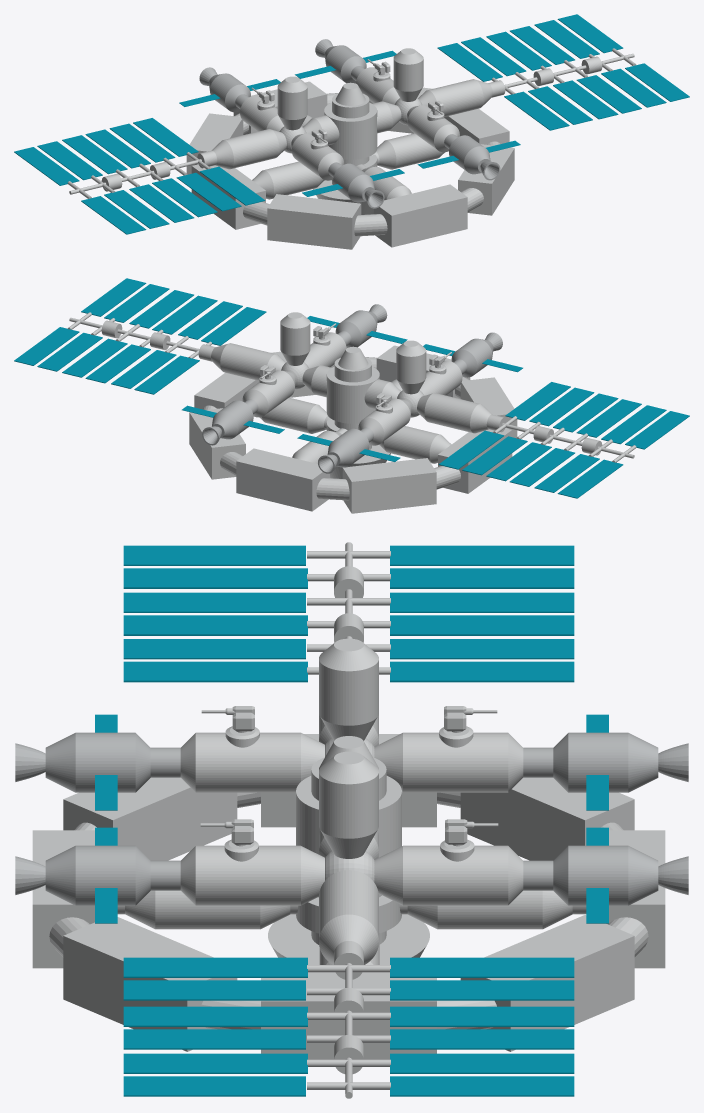
File: Space_station.glb
3 renders of one model, top to bottom at view 1: azimuth 30°, elevation 25°; view 2: azimuth 150°, elevation 25°; view 3: azimuth 270°, elevation 25°, orthographic. The views are drawn at different scales.
Visible parts, largest first — view 1: Mesh_Mesh_head_geo.001_lambert2SG.001; view 2: Mesh_Mesh_head_geo.001_lambert2SG.001; view 3: Mesh_Mesh_head_geo.001_lambert2SG.001.
Boxes of the visible parts, <box> form: Mesh_Mesh_head_geo.001_lambert2SG.001: <box>14,14,689,249</box>; Mesh_Mesh_head_geo.001_lambert2SG.001: <box>14,278,689,513</box>; Mesh_Mesh_head_geo.001_lambert2SG.001: <box>15,542,688,1098</box>.
Size of the model in its own units: 433 by 113 by 224.
